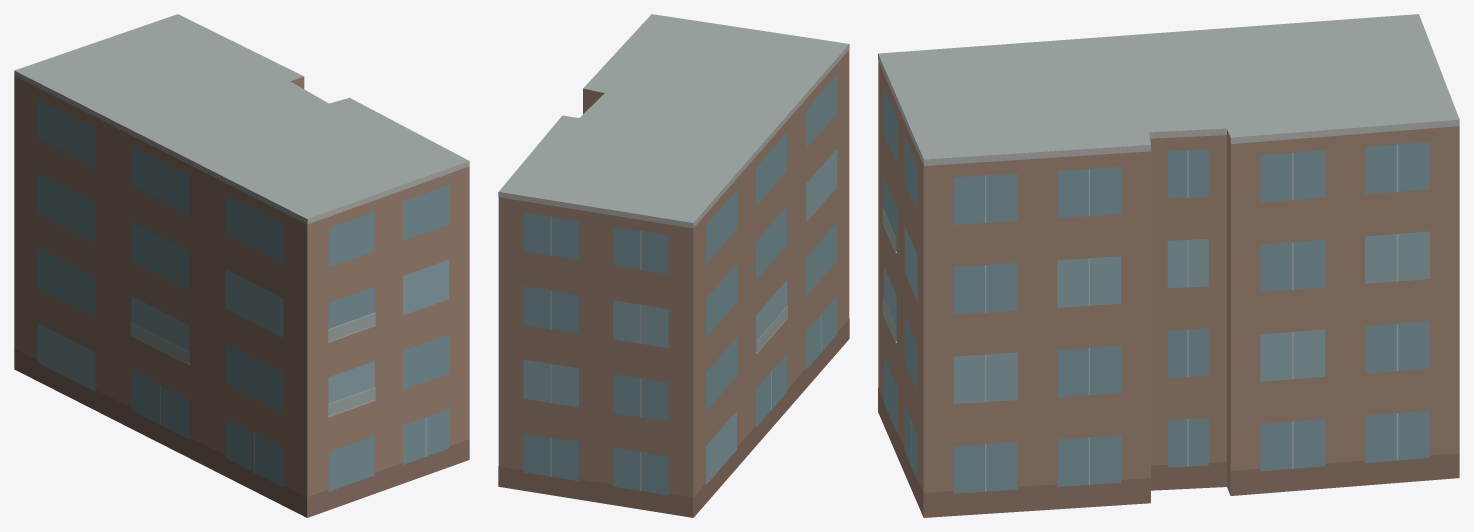
Rendered from survey-upis-33002927.glb.
3 views of the same model, side by side, from view 1: azimuth 30°, elevation 25°; view 2: azimuth 150°, elevation 25°; view 3: azimuth 270°, elevation 25° (orthographic). The views are drawn at different scales.
Parts seen in each view (by area): view 1: survey-upis-33002927.tmp; view 2: survey-upis-33002927.tmp; view 3: survey-upis-33002927.tmp.
Boxes of the visible parts, bbox=[...] form: survey-upis-33002927.tmp: bbox=[14, 14, 469, 517]; survey-upis-33002927.tmp: bbox=[498, 14, 849, 517]; survey-upis-33002927.tmp: bbox=[878, 14, 1459, 517].
Bounding box in the file's own units: 11.86 × 13.6 × 20.02.
